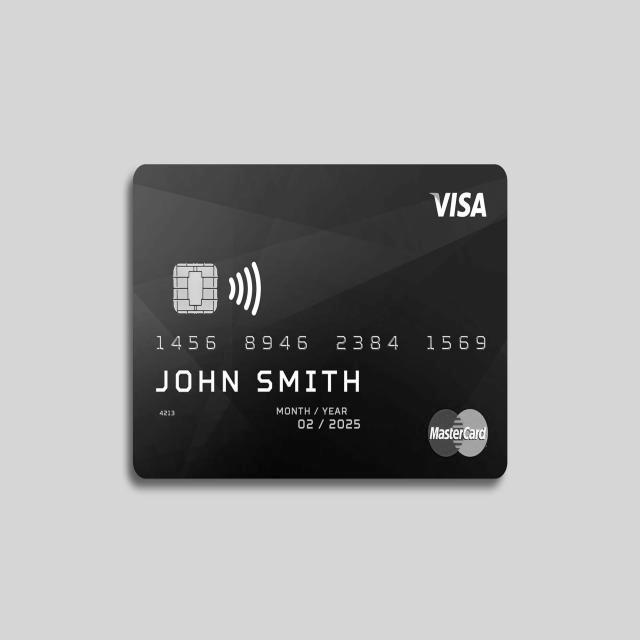card: (120, 156, 508, 484)
